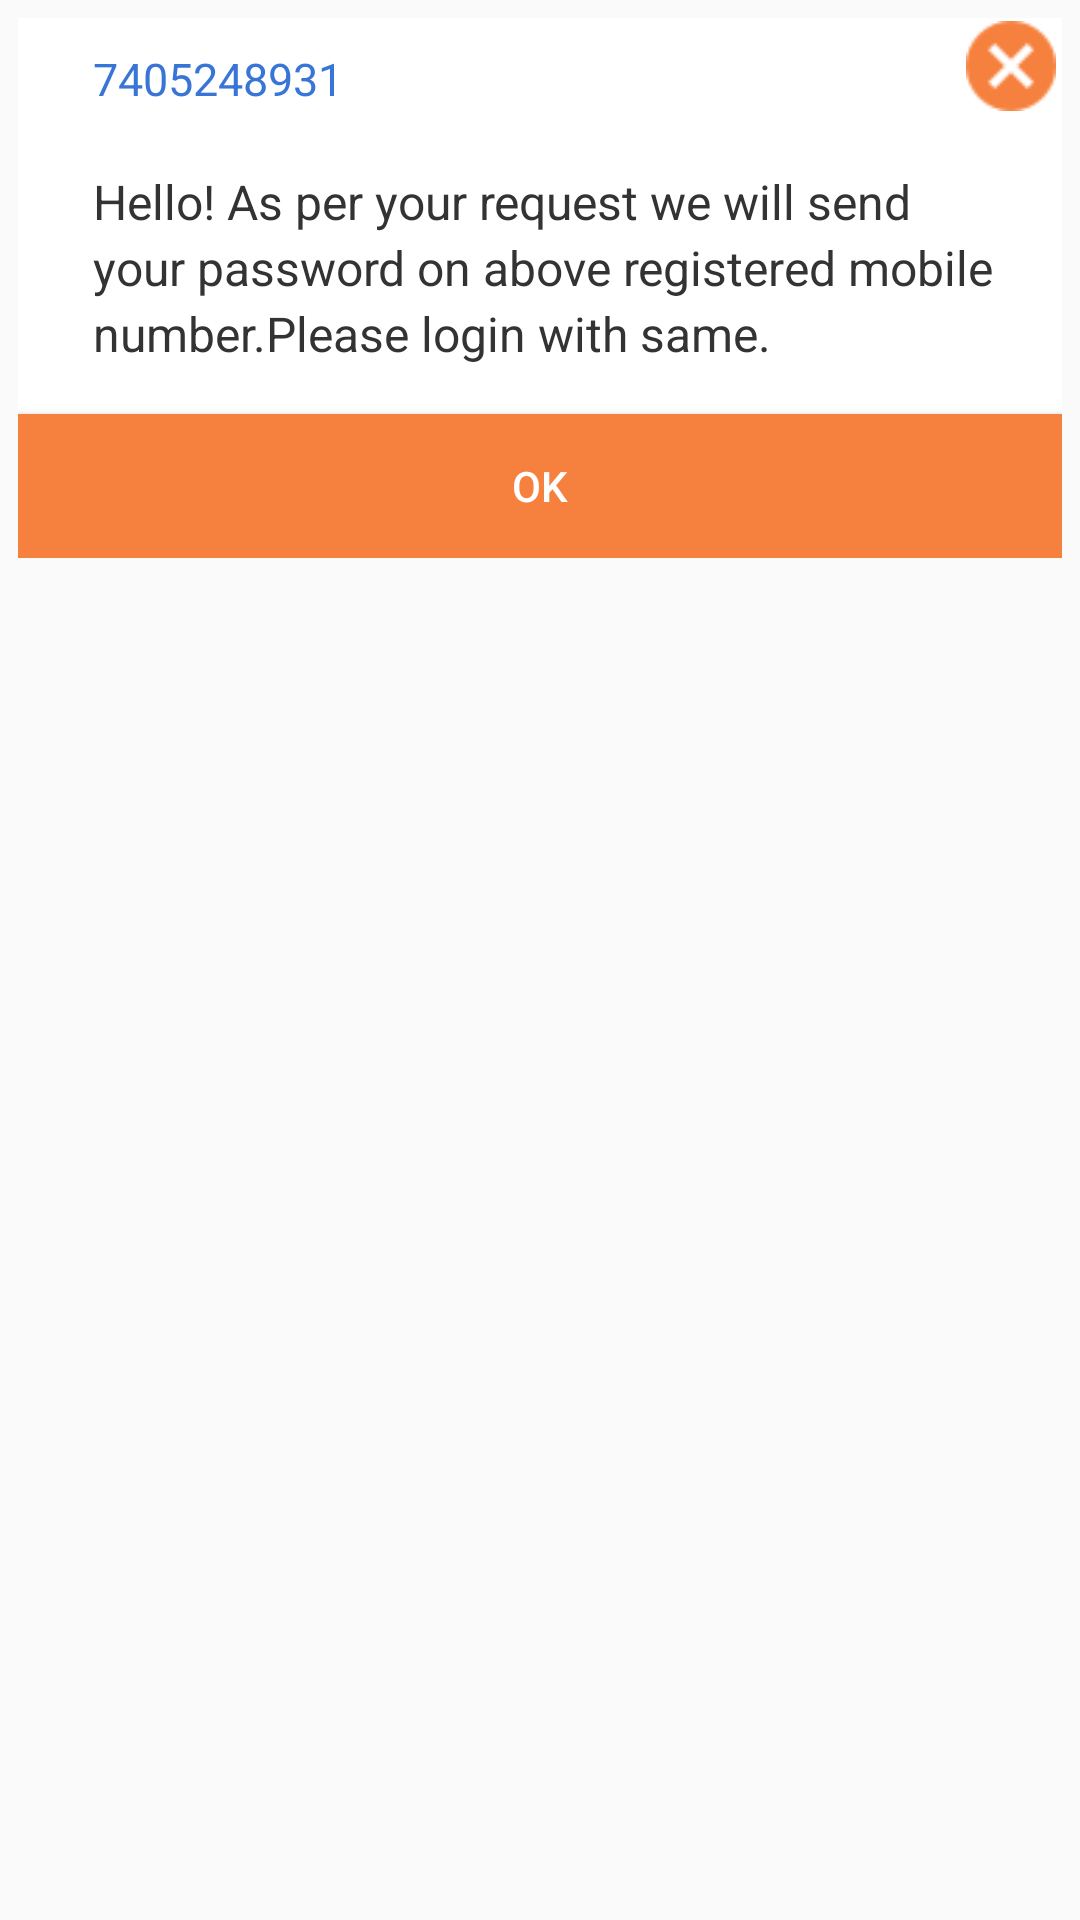

Where icons sit on this 1080px x 1920px app screen, as BBox(x1, y1, x2, y2):
cancel: BBox(966, 21, 1056, 111)
